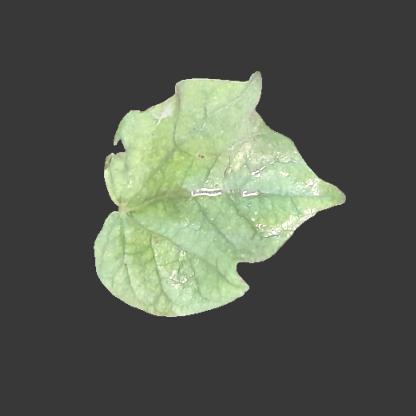curl_stage1: (146, 90, 238, 202), (120, 226, 210, 308), (117, 190, 215, 248), (109, 118, 159, 196), (242, 192, 316, 238)
